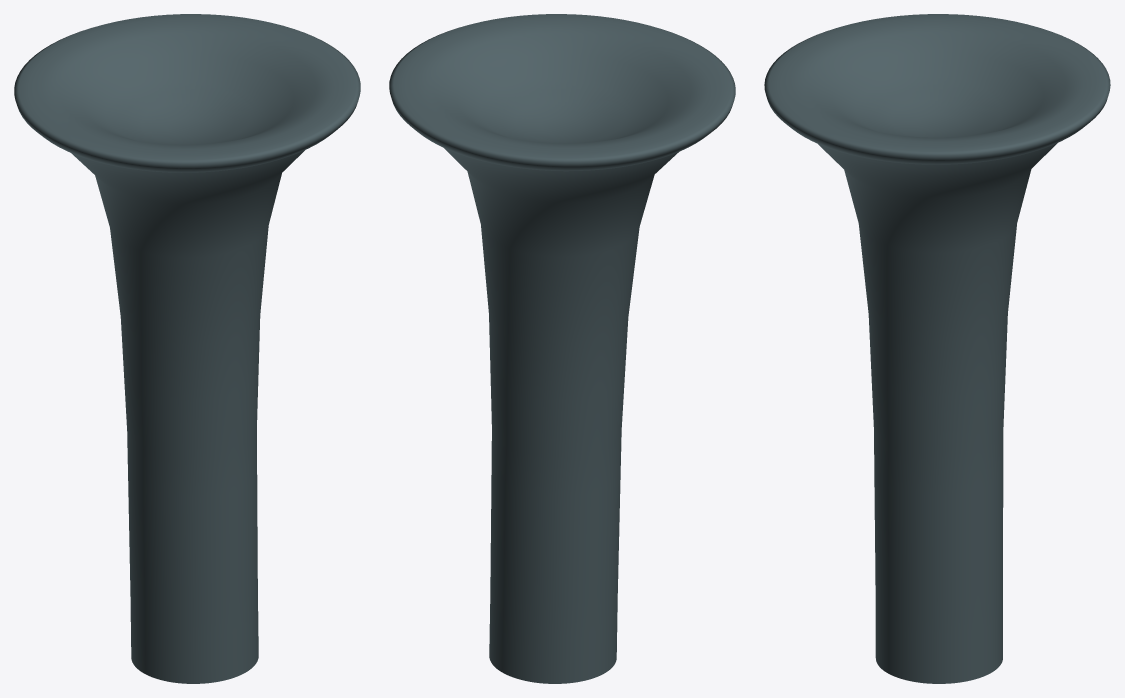
The model's file is chorroo 1.fbx.
The picture shows the model from 3 angles, left to right: view 1: azimuth 30°, elevation 25°; view 2: azimuth 150°, elevation 25°; view 3: azimuth 270°, elevation 25°; orthographic projection.
Parts seen in each view (by area): view 1: pCylinder1; view 2: pCylinder1; view 3: pCylinder1.
Boxes of the visible parts, left/top/right/bottom form: pCylinder1: left=14, top=14, right=360, bottom=683; pCylinder1: left=389, top=14, right=735, bottom=683; pCylinder1: left=764, top=14, right=1110, bottom=683.
Bounding box in the file's own units: 3.94 × 7.22 × 3.94.
